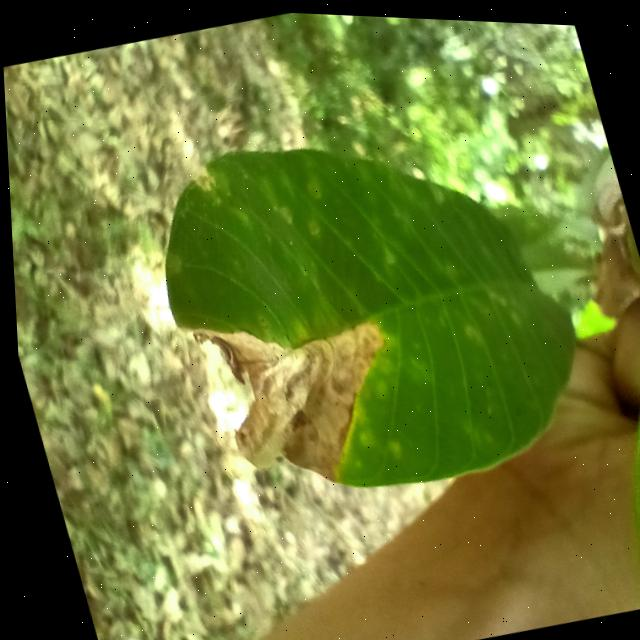Leaf-Blight: (185, 284, 419, 505)
